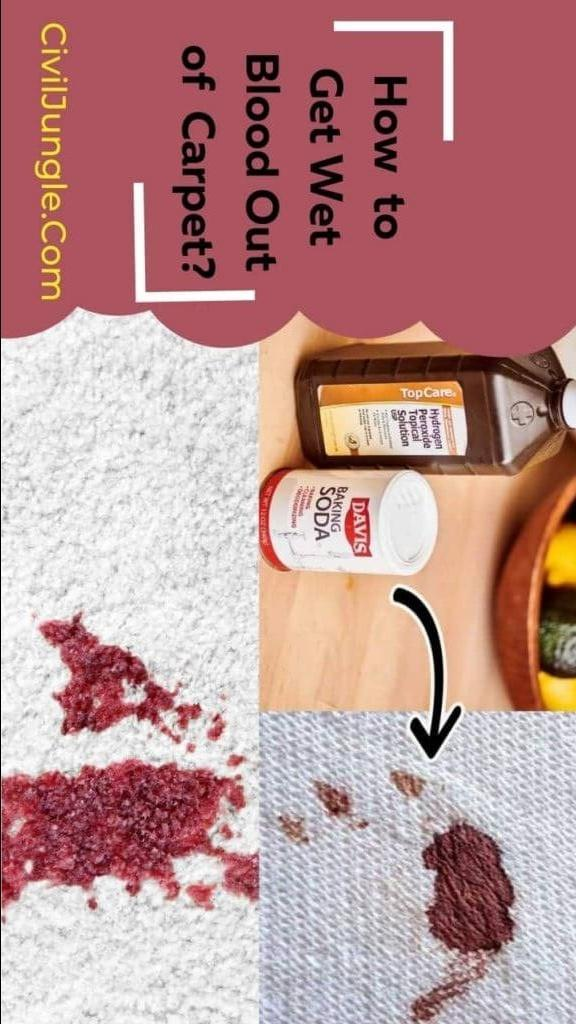Fire: (2, 758, 260, 909), (39, 610, 178, 736), (421, 821, 517, 963), (309, 778, 348, 818), (390, 771, 428, 799)
